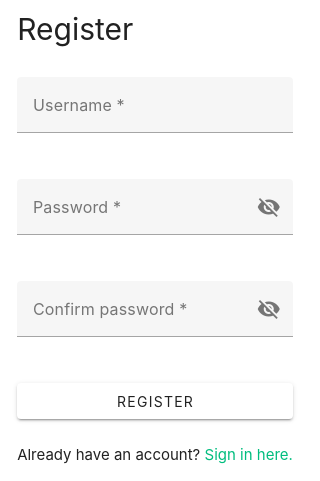
Signup › validates the password Required
The image size is (320, 481).
Replace the text in the field labelled "Username *" with "Username". click: (79, 105)
box: [33, 95, 125, 115]
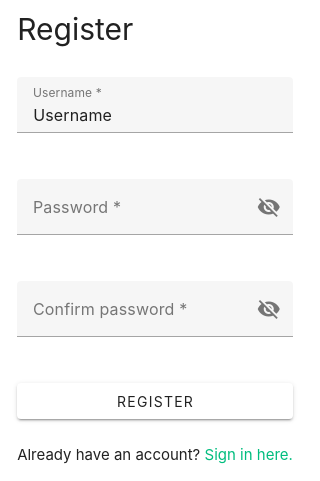
Click the button with test id "button_submit". click: click(155, 401)
box: [17, 383, 293, 419]
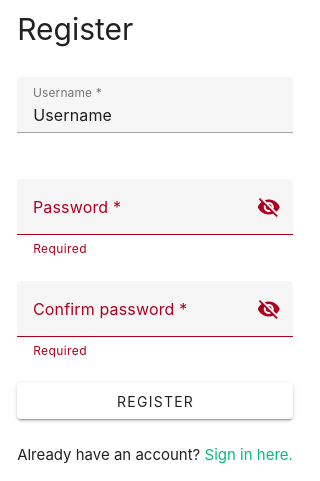
Now the 1st text "Required" is shown, box [33, 241, 87, 256]
